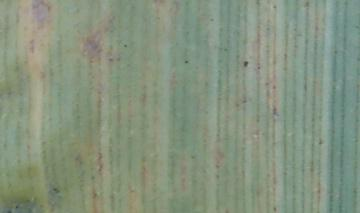tarspot: (270, 103, 279, 117), (51, 185, 60, 195), (317, 135, 325, 146), (106, 56, 115, 65), (302, 1, 310, 9), (270, 82, 278, 90), (242, 60, 249, 68), (182, 59, 190, 66), (255, 64, 262, 71), (270, 3, 278, 9), (271, 205, 277, 213), (208, 16, 214, 22), (122, 42, 127, 49), (264, 79, 269, 86), (14, 204, 19, 210), (6, 209, 13, 213)
